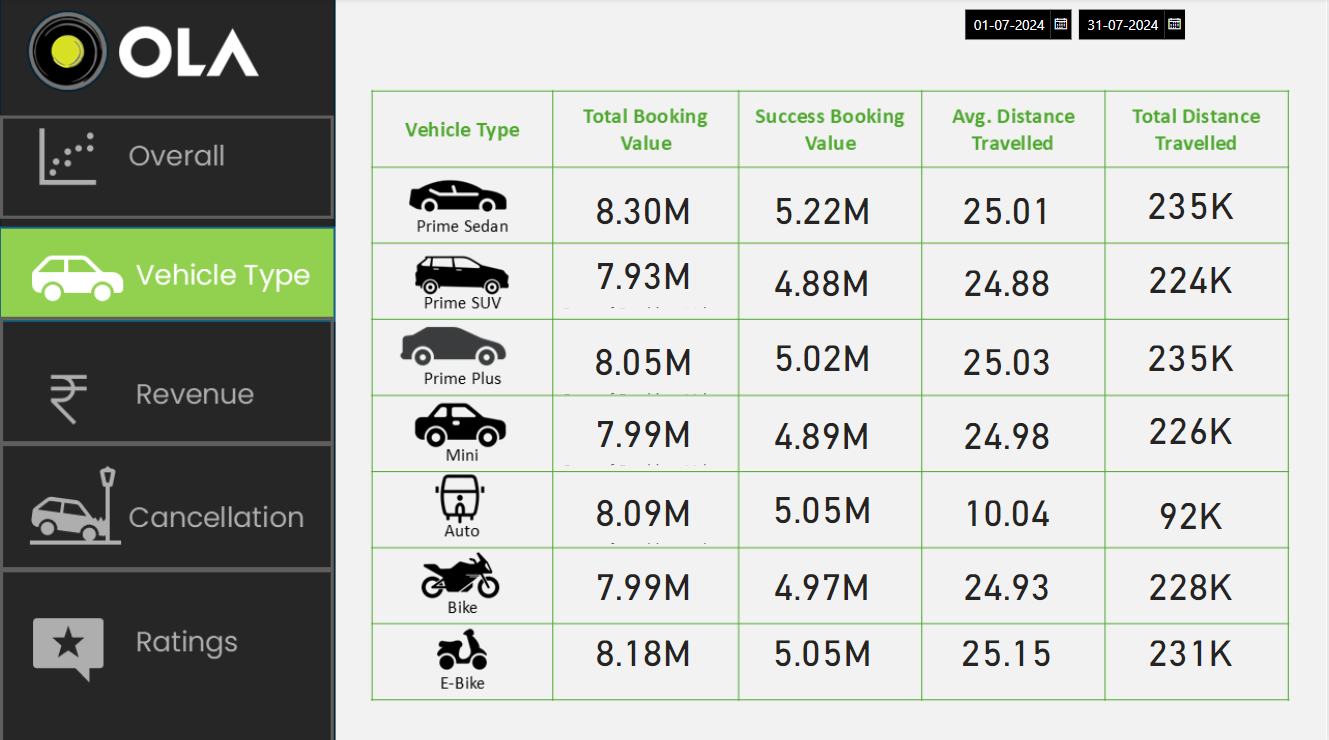

The dashboard page shown, as its layout file describes it:
{"tool":"powerbi","page":{"name":"Vehicle Type","canvas":[1280,720],"ordinal":1},"visuals":[{"type":"card","fields":{"Values":["Sum(July.Booking_Value)"]},"box":[535.7,188.7,170.9,49.8],"z":0},{"type":"card","fields":{"Values":["Sum(July.Booking_Value)"]},"box":[535.7,400.5,170.9,55.2],"z":1000},{"type":"card","fields":{"Values":["Sum(July.Booking_Value)"]},"box":[535.7,477,170.9,55.2],"z":2000},{"type":"card","fields":{"Values":["Sum(July.Booking_Value)"]},"box":[535.7,551.7,170.9,49.8],"z":3000},{"type":"card","fields":{"Values":["Sum(July.Booking_Value)"]},"box":[535.7,615.8,170.9,49.8],"z":4000},{"type":"card","fields":{"Values":["Sum(July.Booking_Value)"]},"box":[535.7,247.4,170.9,57],"z":5000},{"type":"card","fields":{"Values":["Sum(July.Booking_Value)"]},"box":[535.7,331,170.9,57],"z":6000},{"type":"card","fields":{"Values":["Sum(July.Booking_Value)"]},"box":[724.4,188.7,138.8,49.8],"z":7000},{"type":"card","fields":{"Values":["Avg(July.Ride_Distance)"]},"box":[902.4,334.6,138.8,49.8],"z":8000},{"type":"card","fields":{"Values":["Avg(July.Ride_Distance)"]},"box":[902.4,188.7,138.8,49.8],"z":9000},{"type":"card","fields":{"Values":["Avg(July.Ride_Distance)"]},"box":[902.4,258.1,138.8,49.8],"z":10000},{"type":"card","fields":{"Values":["Sum(July.Booking_Value)"]},"box":[724.4,258.1,138.8,49.8],"z":11000},{"type":"card","fields":{"Values":["Sum(July.Booking_Value)"]},"box":[724.4,331,138.8,49.8],"z":12000},{"type":"card","fields":{"Values":["Sum(July.Booking_Value)"]},"box":[724.4,405.8,138.8,49.8],"z":13000},{"type":"card","fields":{"Values":["Sum(July.Booking_Value)"]},"box":[724.4,477,138.8,49.8],"z":14000},{"type":"card","fields":{"Values":["Sum(July.Booking_Value)"]},"box":[724.4,551.7,138.8,49.8],"z":15000},{"type":"card","fields":{"Values":["Sum(July.Booking_Value)"]},"box":[724.4,615.8,138.8,49.8],"z":16000},{"type":"actionButton","box":[0,113.9,322.1,99.7],"z":17000},{"type":"actionButton","box":[0,307.9,322.1,122.8],"z":18000},{"type":"actionButton","box":[0,428.9,322.1,122.8],"z":19000},{"type":"actionButton","box":[0,551.7,322.1,169.1],"z":20000},{"type":"card","fields":{"Values":["Avg(July.Ride_Distance)"]},"box":[902.4,480.5,138.8,49.8],"z":21000},{"type":"card","fields":{"Values":["Avg(July.Ride_Distance)"]},"box":[902.4,551.7,138.8,49.8],"z":22000},{"type":"card","fields":{"Values":["Avg(July.Ride_Distance)"]},"box":[902.4,615.8,138.8,49.8],"z":23000},{"type":"card","fields":{"Values":["Avg(July.Ride_Distance)"]},"box":[902.4,405.8,138.8,49.8],"z":24000},{"type":"card","fields":{"Values":["Sum(July.Ride_Distance)"]},"box":[1080.3,551.7,138.8,49.8],"z":25000},{"type":"card","fields":{"Values":["Sum(July.Ride_Distance)"]},"box":[1080.3,615.8,138.8,49.8],"z":26000},{"type":"card","fields":{"Values":["Sum(July.Ride_Distance)"]},"box":[1080.3,331,138.8,49.8],"z":27000},{"type":"card","fields":{"Values":["Sum(July.Ride_Distance)"]},"box":[1080.3,254.5,138.8,49.8],"z":28000},{"type":"card","fields":{"Values":["Sum(July.Ride_Distance)"]},"box":[1080.3,482.3,138.8,49.8],"z":29000},{"type":"card","fields":{"Values":["Sum(July.Ride_Distance)"]},"box":[1080.3,400.5,138.8,49.8],"z":30000},{"type":"card","fields":{"Values":["Sum(July.Ride_Distance)"]},"box":[1080.3,183.3,138.8,49.8],"z":31000},{"type":"slicer","fields":{"Values":["July.Date"]},"box":[918.4,0,249.2,67.6],"z":32000}]}

Visuals, with their boxes on the page's 1280x720 design canvas (x1, y1, x2, y2). These are canvas units, not pixel positions in the 1329x740 screenshot, which may show the page scaled, cropped or inside an application window:
card - Sum(July.Booking_Value): box=[536, 189, 707, 238]
card - Sum(July.Booking_Value): box=[536, 400, 707, 456]
card - Sum(July.Booking_Value): box=[536, 477, 707, 532]
card - Sum(July.Booking_Value): box=[536, 552, 707, 602]
card - Sum(July.Booking_Value): box=[536, 616, 707, 666]
card - Sum(July.Booking_Value): box=[536, 247, 707, 304]
card - Sum(July.Booking_Value): box=[536, 331, 707, 388]
card - Sum(July.Booking_Value): box=[724, 189, 863, 238]
card - Avg(July.Ride_Distance): box=[902, 335, 1041, 384]
card - Avg(July.Ride_Distance): box=[902, 189, 1041, 238]
card - Avg(July.Ride_Distance): box=[902, 258, 1041, 308]
card - Sum(July.Booking_Value): box=[724, 258, 863, 308]
card - Sum(July.Booking_Value): box=[724, 331, 863, 381]
card - Sum(July.Booking_Value): box=[724, 406, 863, 456]
card - Sum(July.Booking_Value): box=[724, 477, 863, 527]
card - Sum(July.Booking_Value): box=[724, 552, 863, 602]
card - Sum(July.Booking_Value): box=[724, 616, 863, 666]
actionButton: box=[0, 114, 322, 214]
actionButton: box=[0, 308, 322, 431]
actionButton: box=[0, 429, 322, 552]
actionButton: box=[0, 552, 322, 721]
card - Avg(July.Ride_Distance): box=[902, 480, 1041, 530]
card - Avg(July.Ride_Distance): box=[902, 552, 1041, 602]
card - Avg(July.Ride_Distance): box=[902, 616, 1041, 666]
card - Avg(July.Ride_Distance): box=[902, 406, 1041, 456]
card - Sum(July.Ride_Distance): box=[1080, 552, 1219, 602]
card - Sum(July.Ride_Distance): box=[1080, 616, 1219, 666]
card - Sum(July.Ride_Distance): box=[1080, 331, 1219, 381]
card - Sum(July.Ride_Distance): box=[1080, 254, 1219, 304]
card - Sum(July.Ride_Distance): box=[1080, 482, 1219, 532]
card - Sum(July.Ride_Distance): box=[1080, 400, 1219, 450]
card - Sum(July.Ride_Distance): box=[1080, 183, 1219, 233]
slicer - July.Date: box=[918, 0, 1168, 68]
